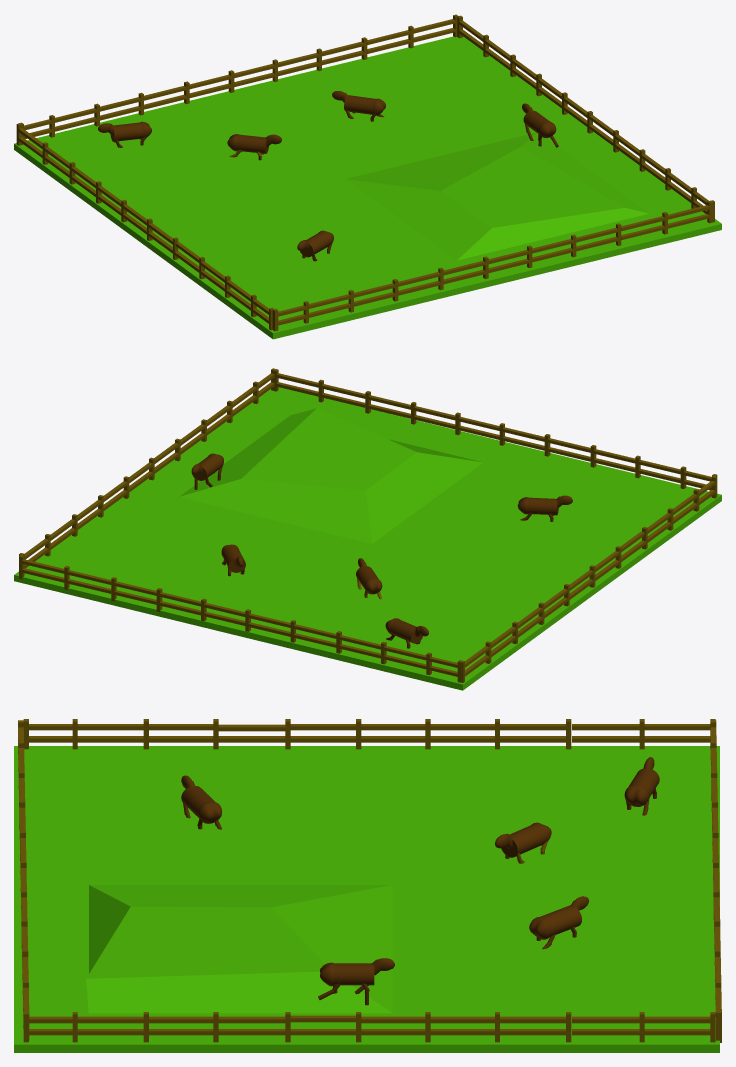
The model's file is farm.fbx.
3 renders of one model, top to bottom at view 1: azimuth 30°, elevation 25°; view 2: azimuth 150°, elevation 25°; view 3: azimuth 270°, elevation 25°, orthographic. The views are drawn at different scales.
Visible parts, largest first — view 1: Cube, Cube.125, Mball, Cylinder.049, Cylinder; view 2: Cube, Cube.125, Mball, Cylinder.039; view 3: Cube, Cube.125, Mball, Cylinder.019, Cylinder, Cylinder.029, Cylinder.039, Cube.043, Cube.020, Cube.005, Cube.002, Cube.017 (+4 smaller).
Boxes of the visible parts, box(x1,y1,x2,y2) form: Cube: box(14, 36, 721, 339); Cube.125: box(345, 132, 649, 260); Mball: box(98, 91, 556, 250); Cylinder.049: box(110, 122, 144, 141); Cylinder: box(235, 134, 268, 153); Cube: box(14, 387, 721, 690); Cube.125: box(179, 408, 482, 543); Mball: box(191, 453, 572, 636); Cylinder.039: box(526, 497, 558, 515); Cube: box(14, 746, 719, 1052); Cube.125: box(86, 885, 392, 1013); Mball: box(181, 757, 654, 986); Cylinder.019: box(333, 963, 374, 985); Cylinder: box(501, 824, 547, 857); Cylinder.029: box(540, 905, 581, 936); Cylinder.039: box(181, 785, 214, 817); Cube.043: box(218, 724, 286, 731); Cube.020: box(217, 1016, 285, 1023); Cube.005: box(572, 1016, 639, 1023); Cube.002: box(642, 1016, 710, 1023); Cube.017: box(289, 1015, 357, 1022).
Bounding box in the file's own units: 8000 × 717 × 8023.
